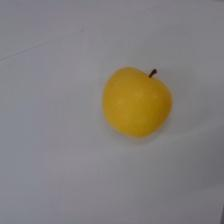yellow: (98, 61, 175, 142)
